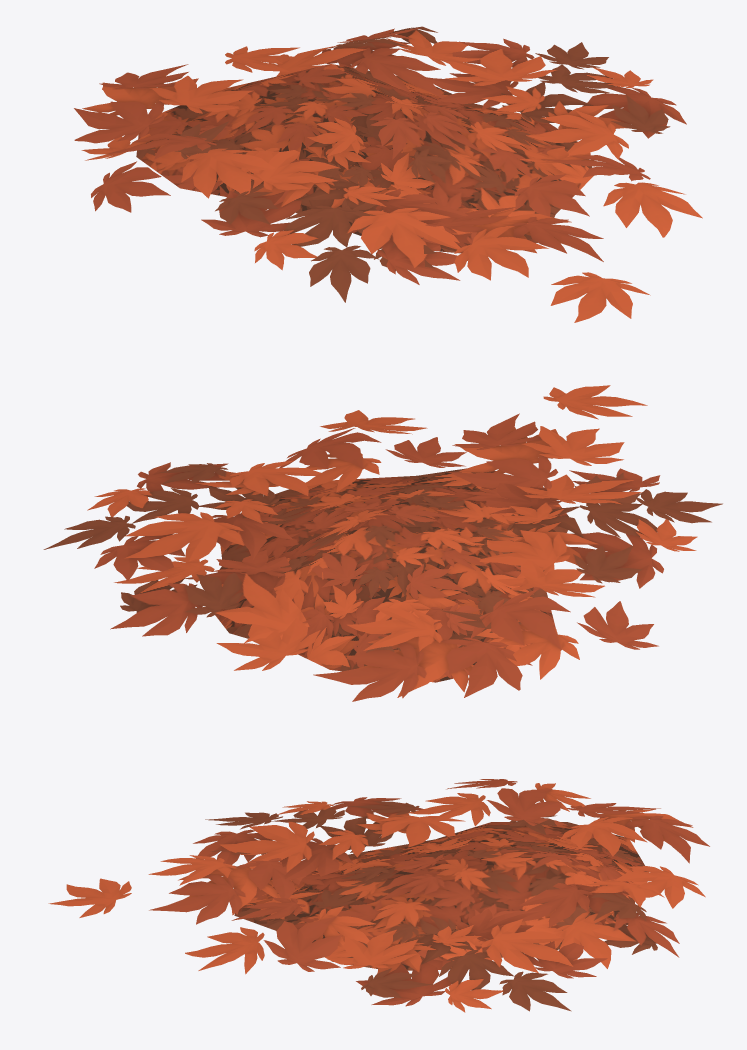
File: SM_Env_Ginko_Pile_01.fbx
3 views of the same model, one above another, from view 1: azimuth 30°, elevation 25°; view 2: azimuth 150°, elevation 25°; view 3: azimuth 270°, elevation 25° (orthographic). The views are drawn at different scales.
Parts seen in each view (by area): view 1: SM_Env_Ginko_Pile_01; view 2: SM_Env_Ginko_Pile_01; view 3: SM_Env_Ginko_Pile_01.
Part boxes in pixels (x1=…): SM_Env_Ginko_Pile_01: x1=74, y1=26, x2=702, y2=322; SM_Env_Ginko_Pile_01: x1=43, y1=385, x2=722, y2=701; SM_Env_Ginko_Pile_01: x1=48, y1=779, x2=709, y2=1012.
Size of the model in its own units: 252 by 20.08 by 288.
